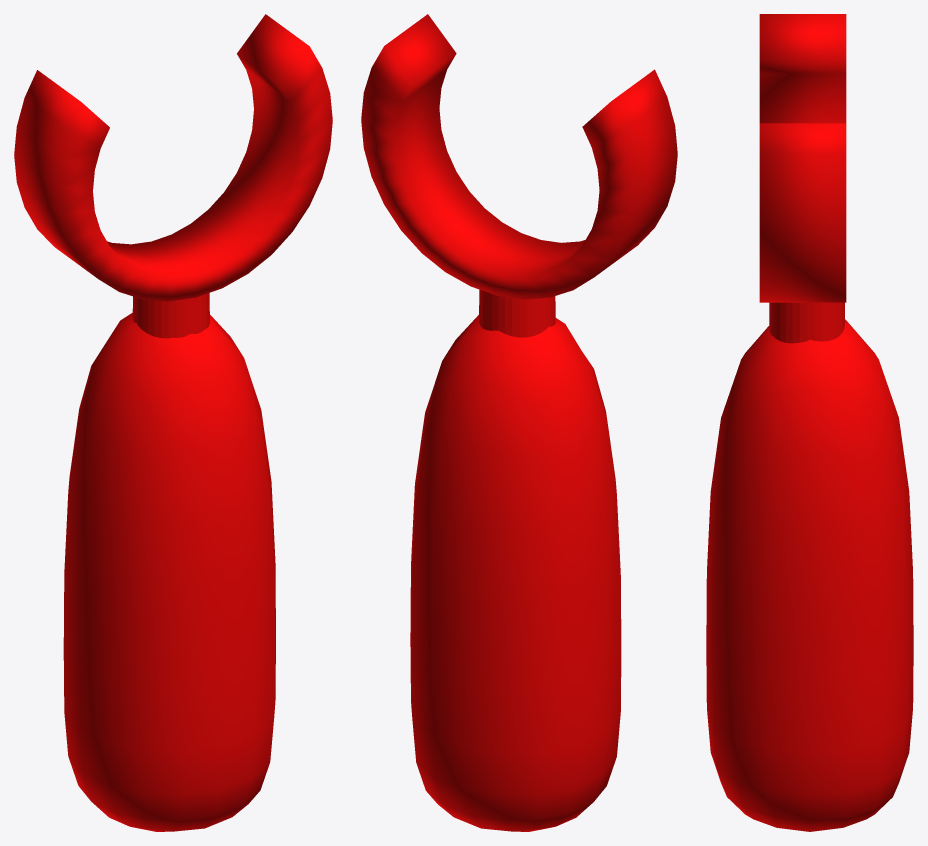
Rendered from Robot Arm.fbx.
3 renders of one model, left to right at view 1: azimuth 30°, elevation 25°; view 2: azimuth 150°, elevation 25°; view 3: azimuth 270°, elevation 25°, orthographic.
Visible parts, largest first — view 1: Cylinder; view 2: Cylinder; view 3: Cylinder.
Boxes of the visible parts, box(x1,y1,x2,y2) form: Cylinder: box(14, 14, 332, 831); Cylinder: box(361, 14, 677, 831); Cylinder: box(706, 14, 913, 831).
Size of the model in its own units: 90.55 by 240 by 60.27.
